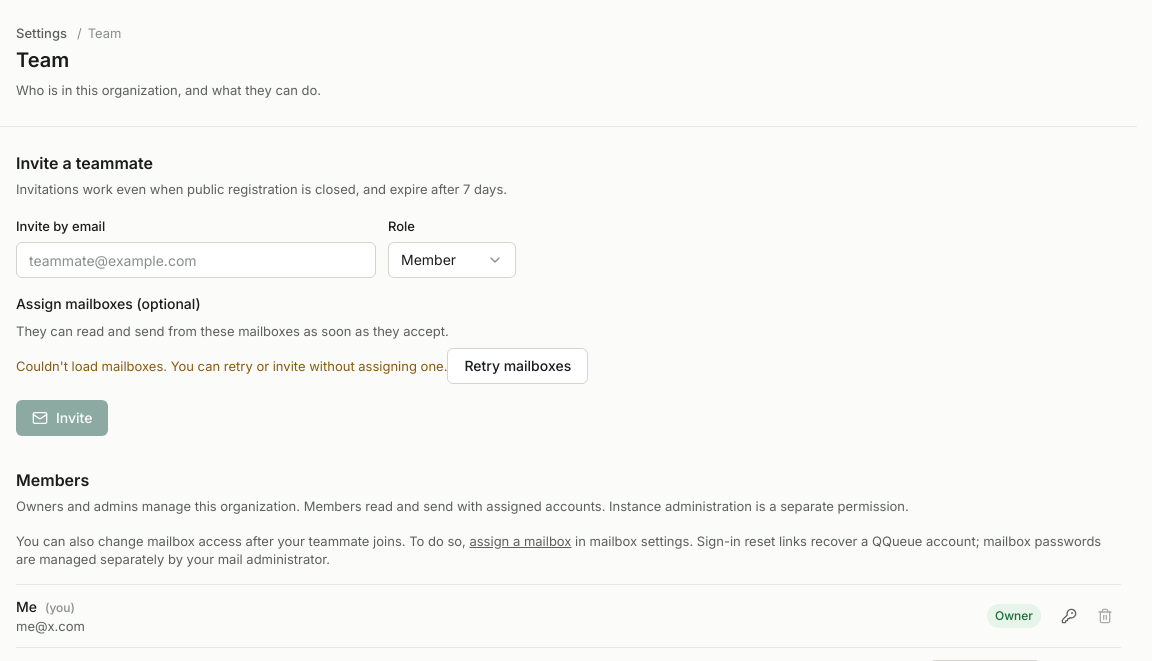
assign mailboxes with an invitation › offers a retry when mailboxes fail to load
Click the button "Retry mailboxes" at (518, 366), box [447, 348, 588, 384]
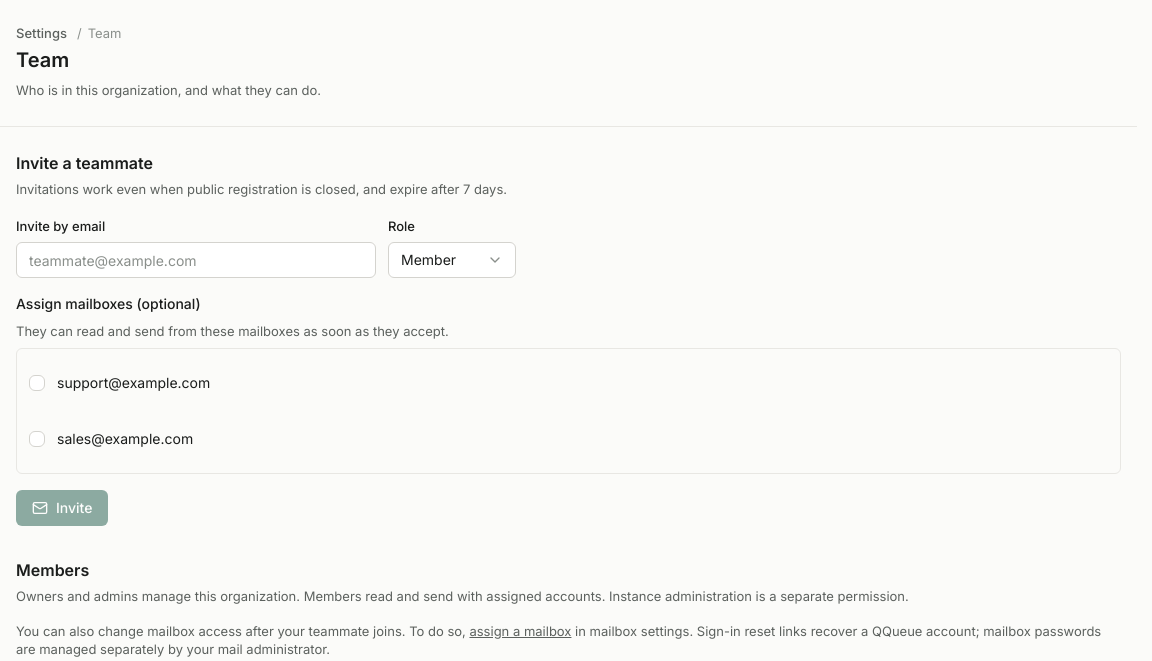
Result: the checkbox named "support@example.com" next to "support@example.com" is shown at [29, 375, 45, 391]
